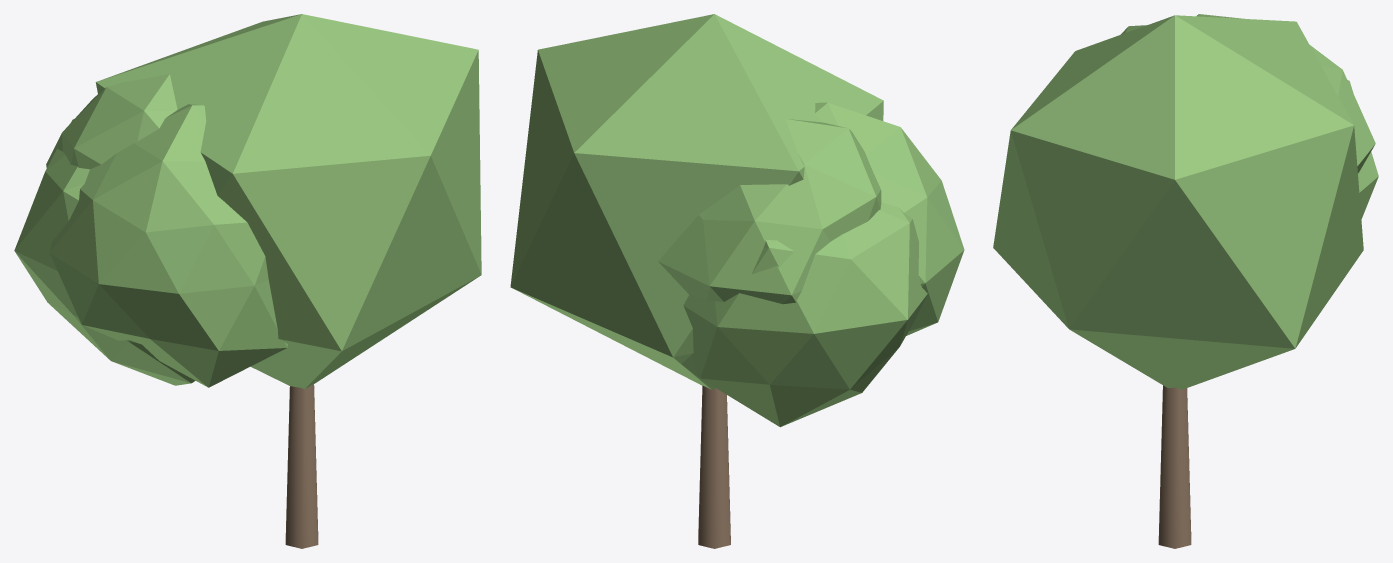
The model's file is tree_round_a.glb.
3 renders of one model, left to right at view 1: azimuth 30°, elevation 25°; view 2: azimuth 150°, elevation 25°; view 3: azimuth 270°, elevation 25°, orthographic.
Visible parts, largest first — view 1: tree_round_a; view 2: tree_round_a; view 3: tree_round_a.
Boxes of the visible parts, x1,y1,x2,y2 form: tree_round_a: (14, 14, 481, 548); tree_round_a: (510, 14, 964, 548); tree_round_a: (993, 14, 1378, 548).
Bounding box in the file's own units: 5.63 × 6.8 × 4.52.
